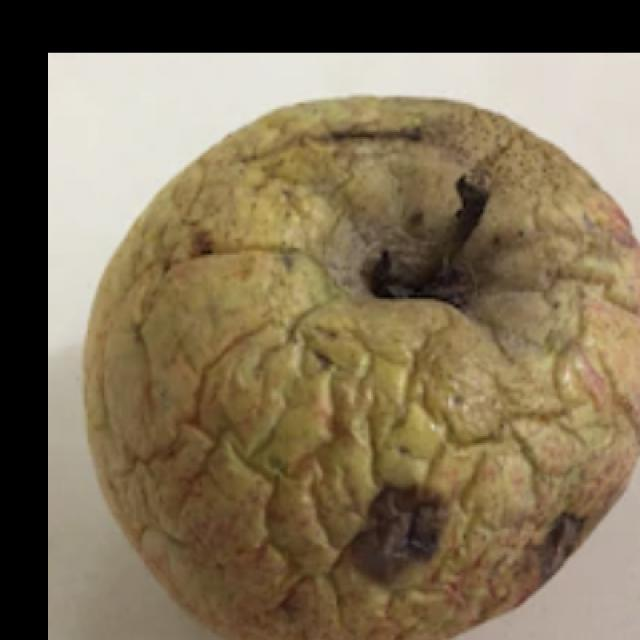Rotten: (100, 91, 640, 640)
